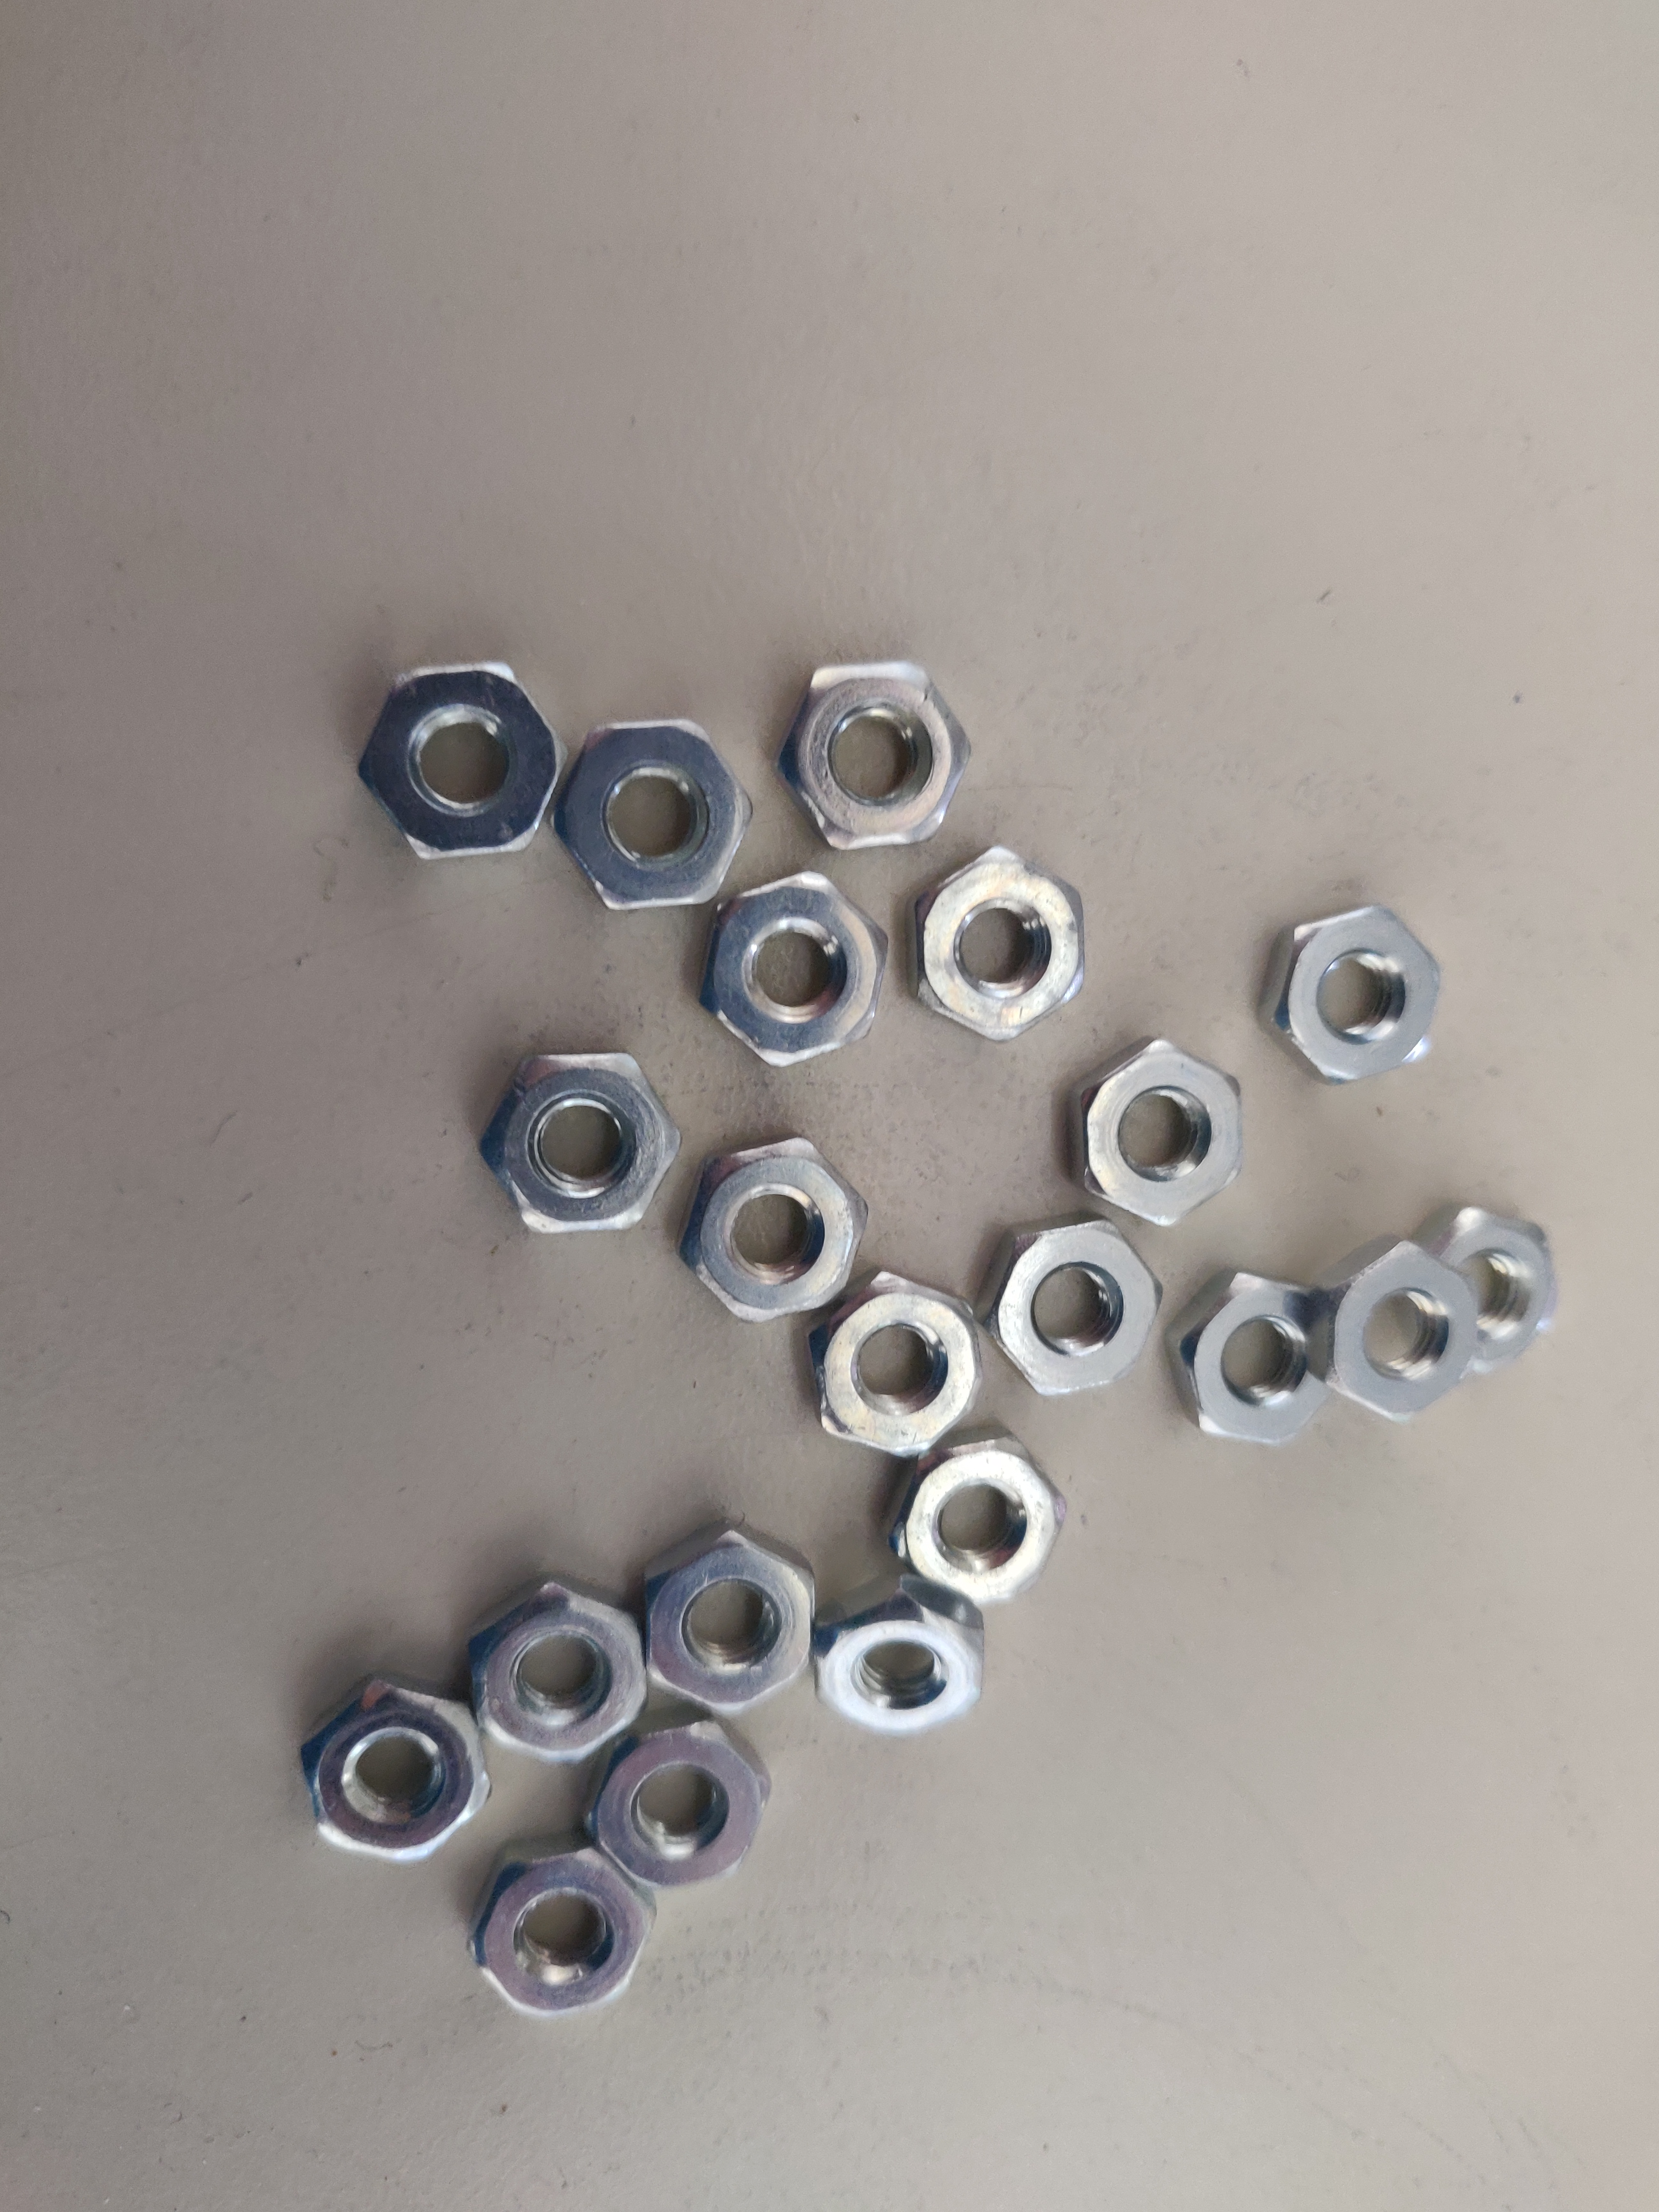nut: (362, 660, 554, 866), (667, 1136, 864, 1329), (563, 721, 751, 916), (798, 1277, 993, 1465), (483, 1054, 671, 1244), (908, 845, 1091, 1040), (960, 1223, 1162, 1393), (1066, 1043, 1248, 1231), (784, 667, 967, 852), (298, 1681, 486, 1860), (465, 1585, 648, 1764), (1258, 911, 1443, 1089), (702, 876, 878, 1061), (465, 1853, 659, 2020), (634, 1534, 819, 1709), (1180, 1259, 1344, 1449), (1326, 1237, 1478, 1432), (606, 1723, 767, 1895), (884, 1439, 1053, 1595), (826, 1588, 992, 1740), (1443, 1205, 1556, 1383)
